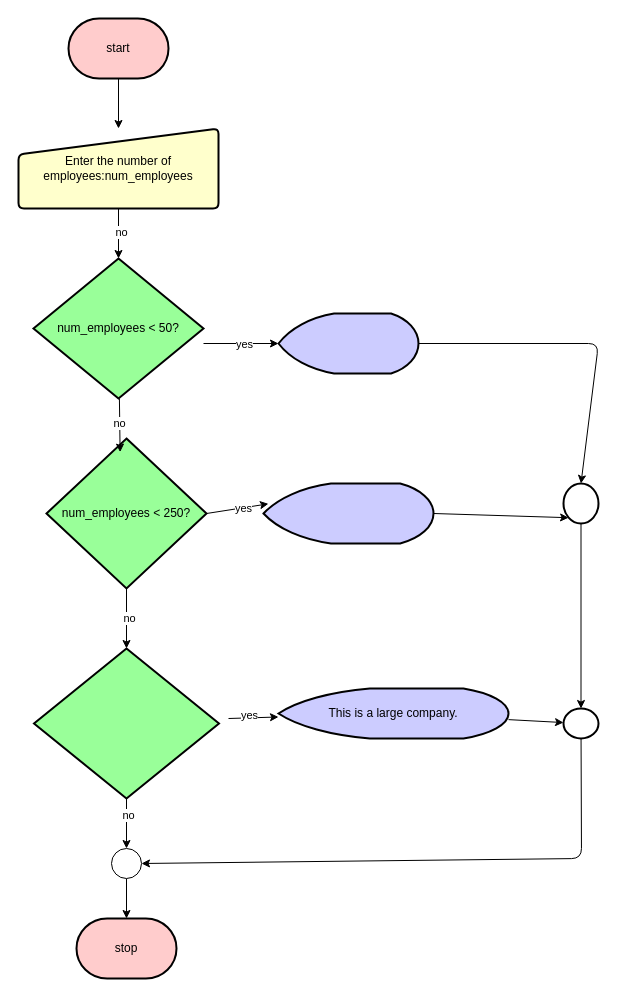
Image size: 624x996. Some labels were removed from this diagram. The shapes that lost their labels are listed below. From the top down, each one's centre as x and y in pixels, then its label:
At pixel 348 343: "This is a small company.".
At pixel 348 513: "This is a medium-sized company.".
At pixel 126 723: "num_employees > 250?".
